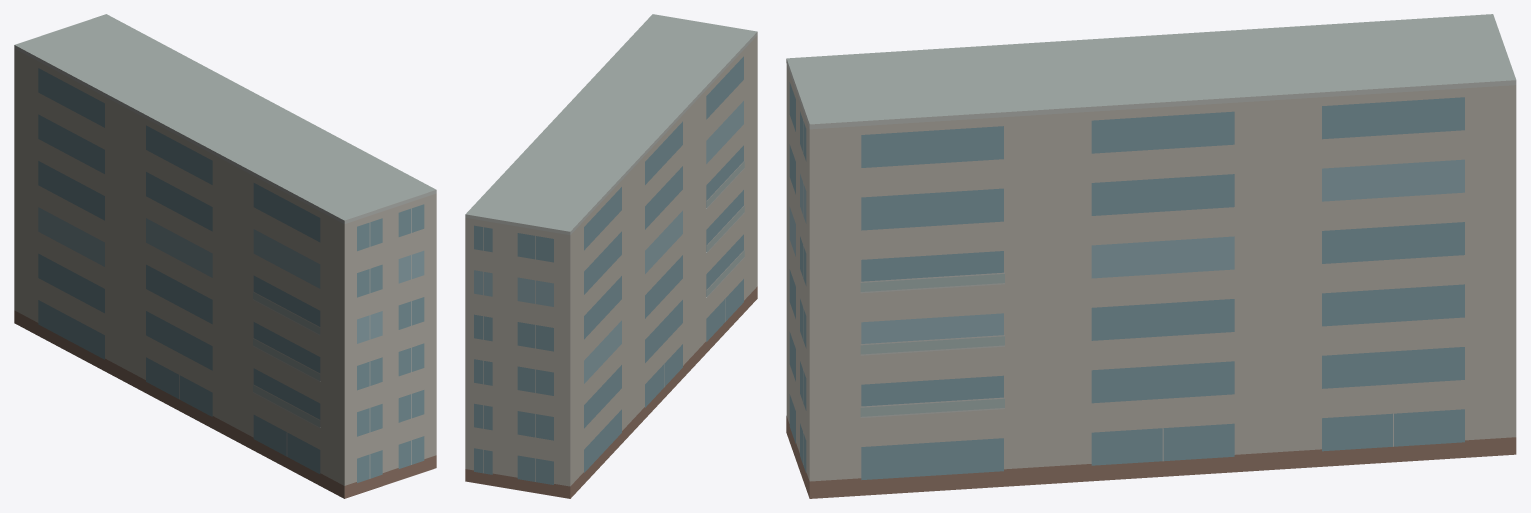
Rendered from survey-upis-32577214.glb.
The picture shows the model from 3 angles, left to right: view 1: azimuth 30°, elevation 25°; view 2: azimuth 150°, elevation 25°; view 3: azimuth 270°, elevation 25°; orthographic projection. The views are drawn at different scales.
Parts seen in each view (by area): view 1: survey-upis-32577214.tmp; view 2: survey-upis-32577214.tmp; view 3: survey-upis-32577214.tmp.
Boxes of the visible parts, x1,y1,x2,y2 form: survey-upis-32577214.tmp: [14, 14, 436, 498]; survey-upis-32577214.tmp: [465, 14, 757, 498]; survey-upis-32577214.tmp: [786, 14, 1516, 498].
Bounding box in the file's own units: 11.84 × 18.7 × 33.05.
